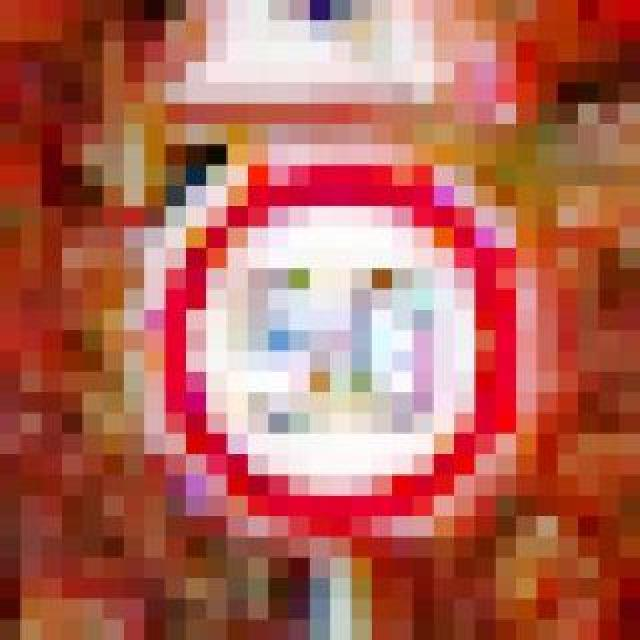50 kph: (104, 124, 538, 516)
